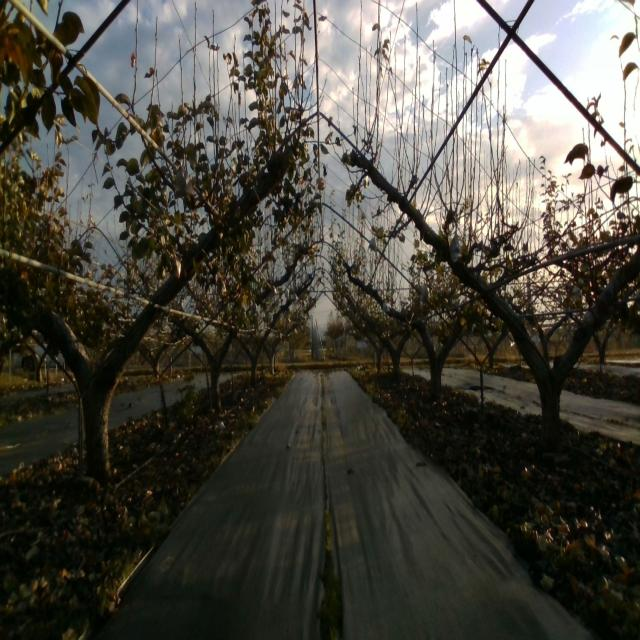pearbags: (174, 160, 195, 199), (450, 230, 460, 263)
